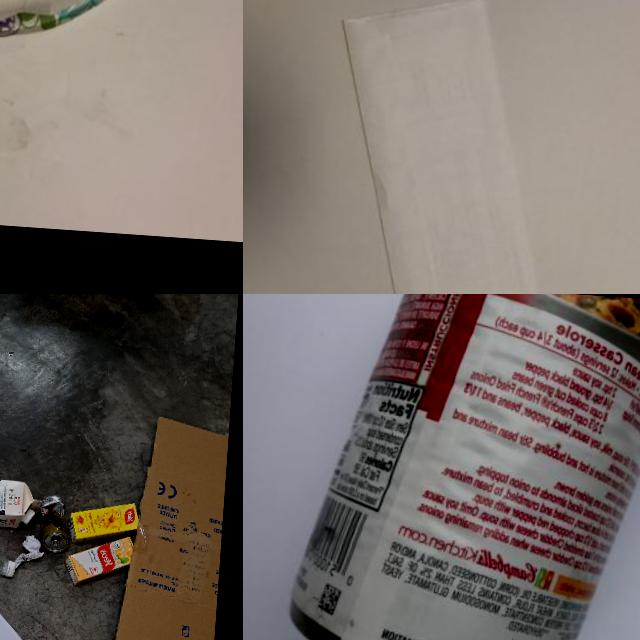aba de lata: (50, 538, 60, 549)
caixinha: (63, 532, 134, 590), (66, 498, 140, 548), (0, 471, 41, 529)
garrafa plástica: (0, 541, 15, 602)
lata: (281, 294, 640, 640), (36, 494, 70, 552)
papel: (320, 0, 559, 294), (14, 532, 46, 568)
papelão: (110, 414, 229, 640)
tampa plástica: (20, 507, 34, 526), (2, 560, 15, 576)
